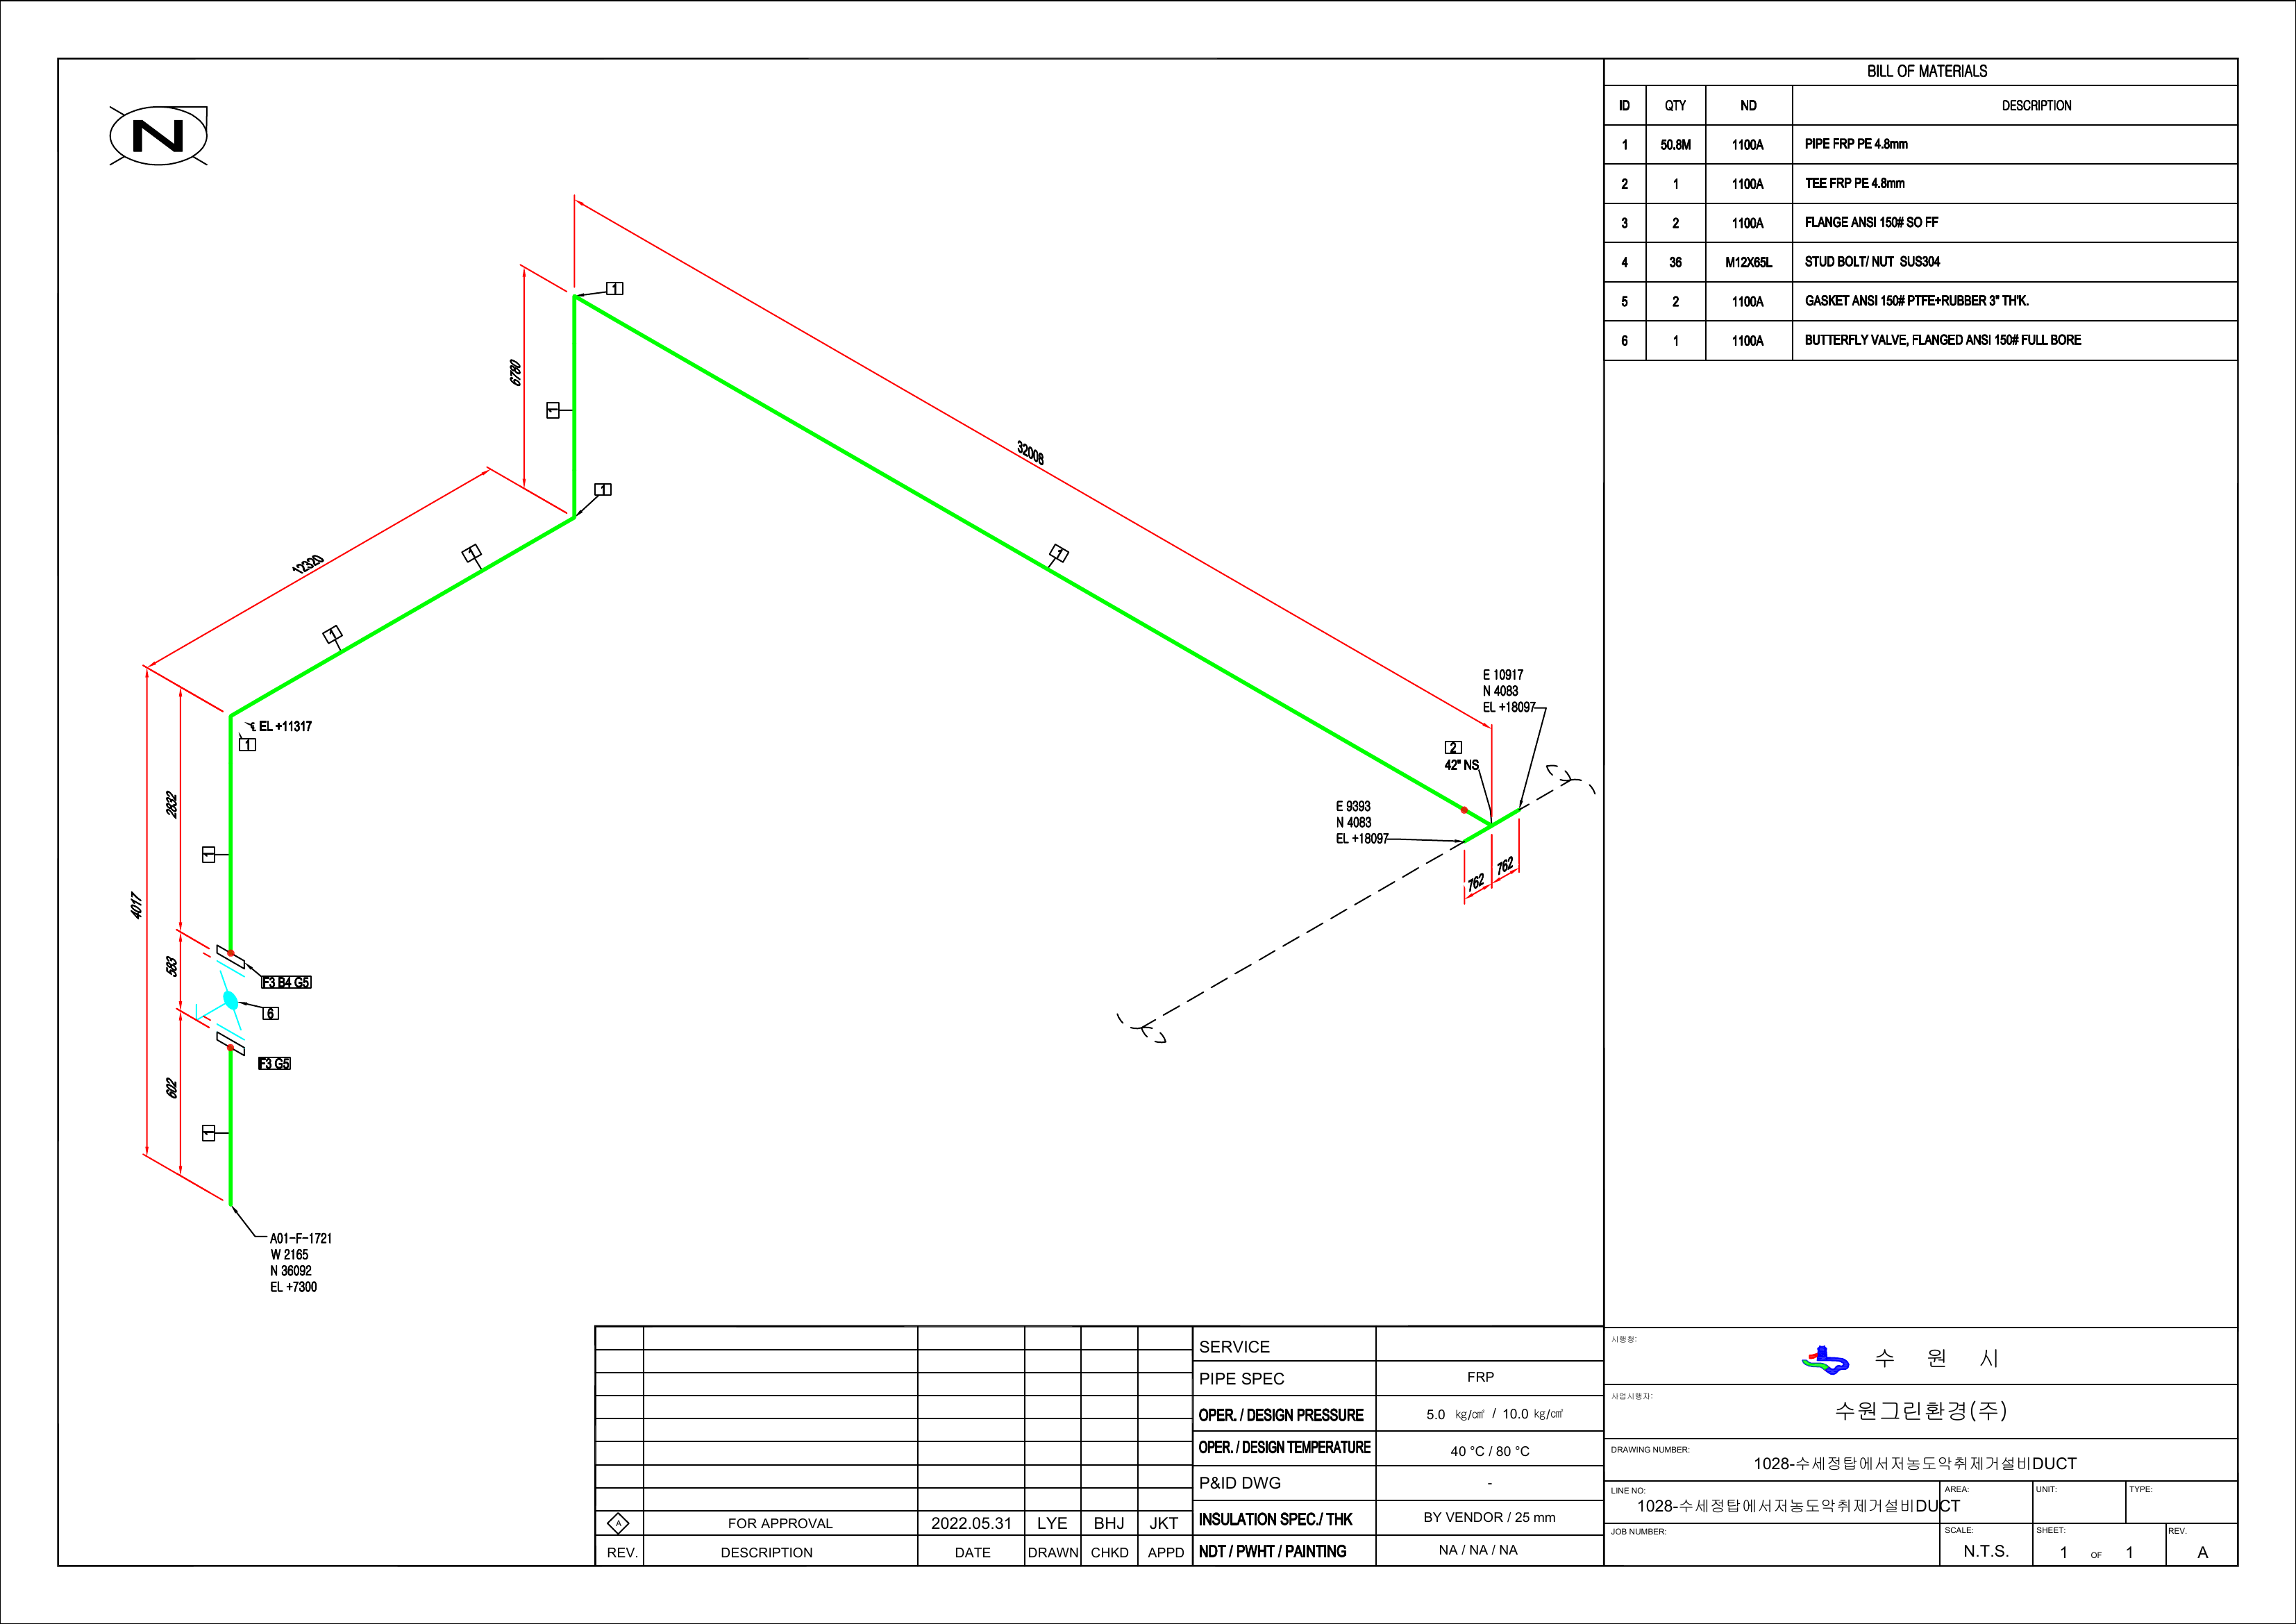table: (1599, 42, 2245, 367)
